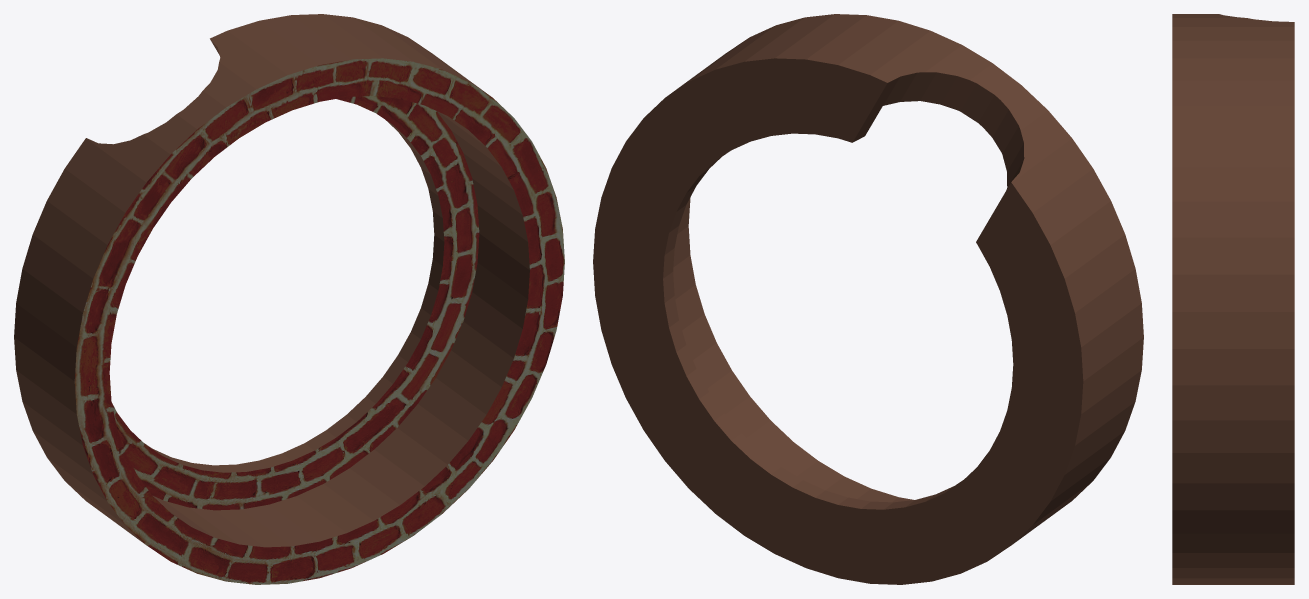
Rendered from pool_003.obj.
3 views of the same model, side by side, from view 1: azimuth 30°, elevation 25°; view 2: azimuth 150°, elevation 25°; view 3: azimuth 270°, elevation 25° (orthographic).
Bounding box in the file's own units: 14 × 14 × 3.
Materials: 1 (1 with a texture image).
